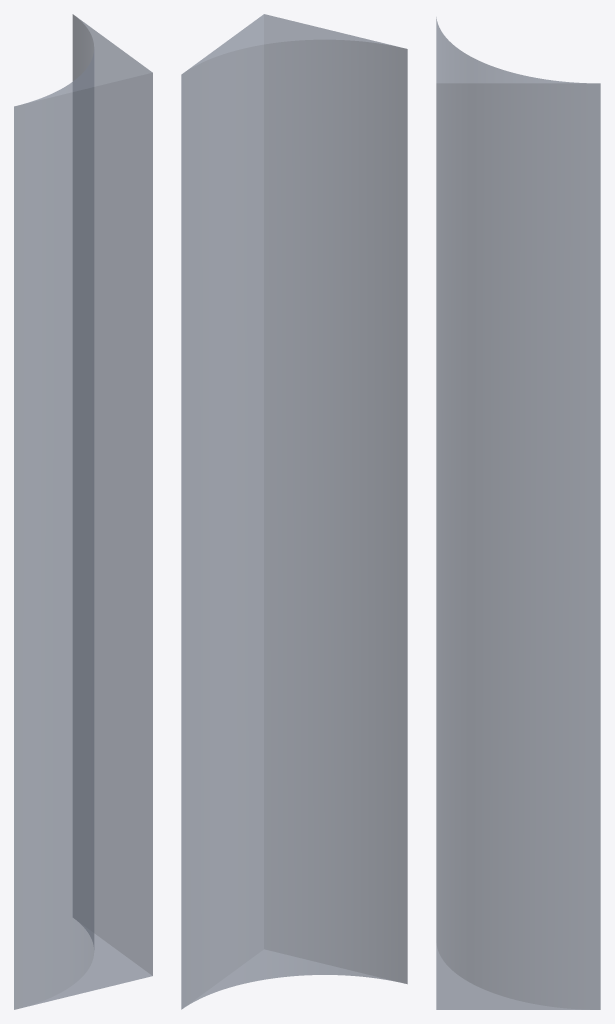
Rendered from pillar-quarterinner.glb.
3 renders of one model, left to right at view 1: azimuth 30°, elevation 25°; view 2: azimuth 150°, elevation 25°; view 3: azimuth 270°, elevation 25°, orthographic. The views are drawn at different scales.
Parts seen in each view (by area): view 1: pillar-quarterinner; view 2: pillar-quarterinner; view 3: pillar-quarterinner.
Boxes of the visible parts, x1,y1,x2,y2 form: pillar-quarterinner: (14, 14, 152, 1009); pillar-quarterinner: (181, 14, 407, 1009); pillar-quarterinner: (436, 17, 600, 1009).
Bounding box in the file's own units: 0.45 × 2.8 × 0.45.
